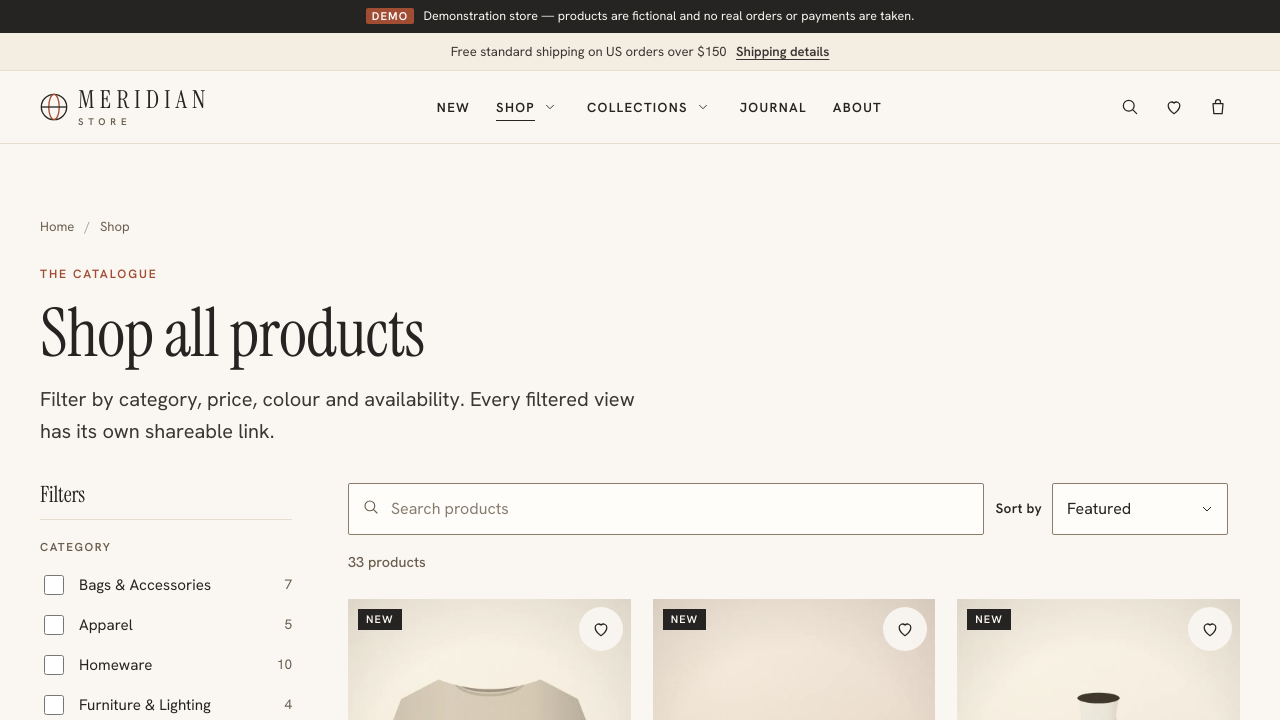
Test case: shop filters › searches and shows a helpful empty state
Step 1. Type "zzzz" into the search field labelled "Search products" → (666, 509), box [348,483,984,535]
(page scrolled)
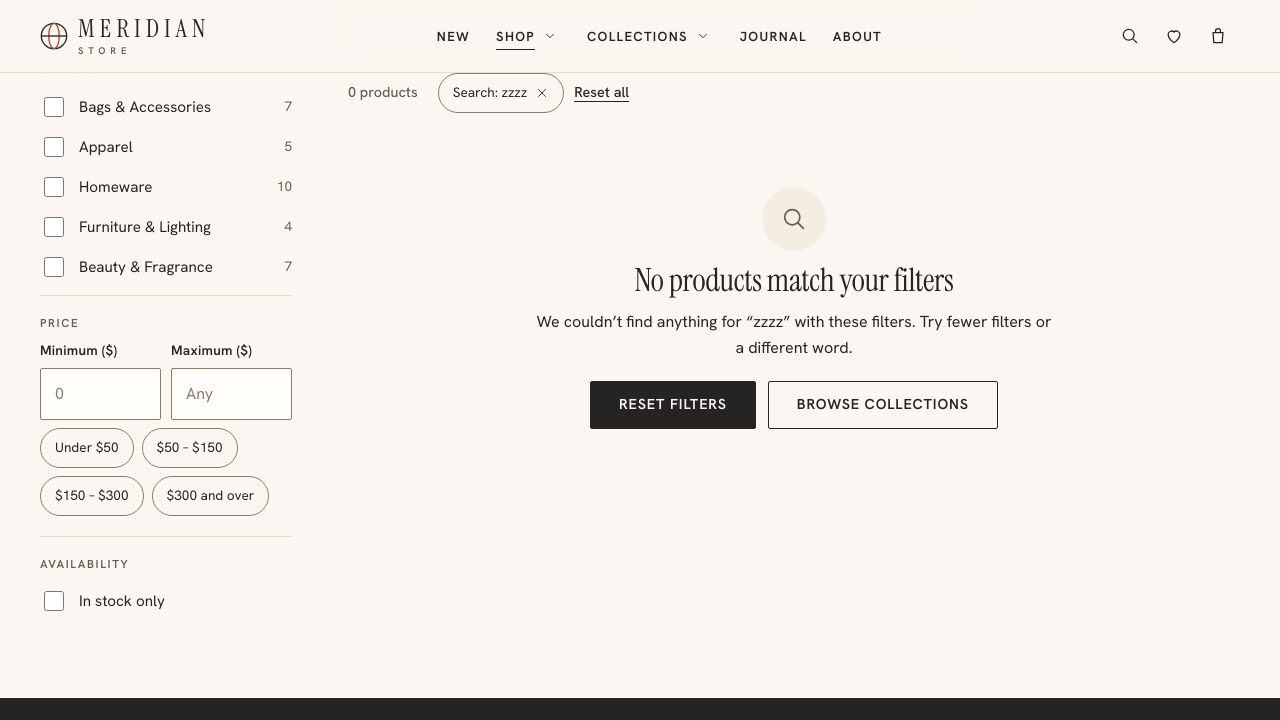
Check: the text "0 products" is shown, box [348,81,418,104]
Check: the heading "No products match your filters" is shown, box [634,263,954,297]
Step 2. Click the button "Reset filters" → (673, 404), box [590,380,756,428]
(page scrolled)
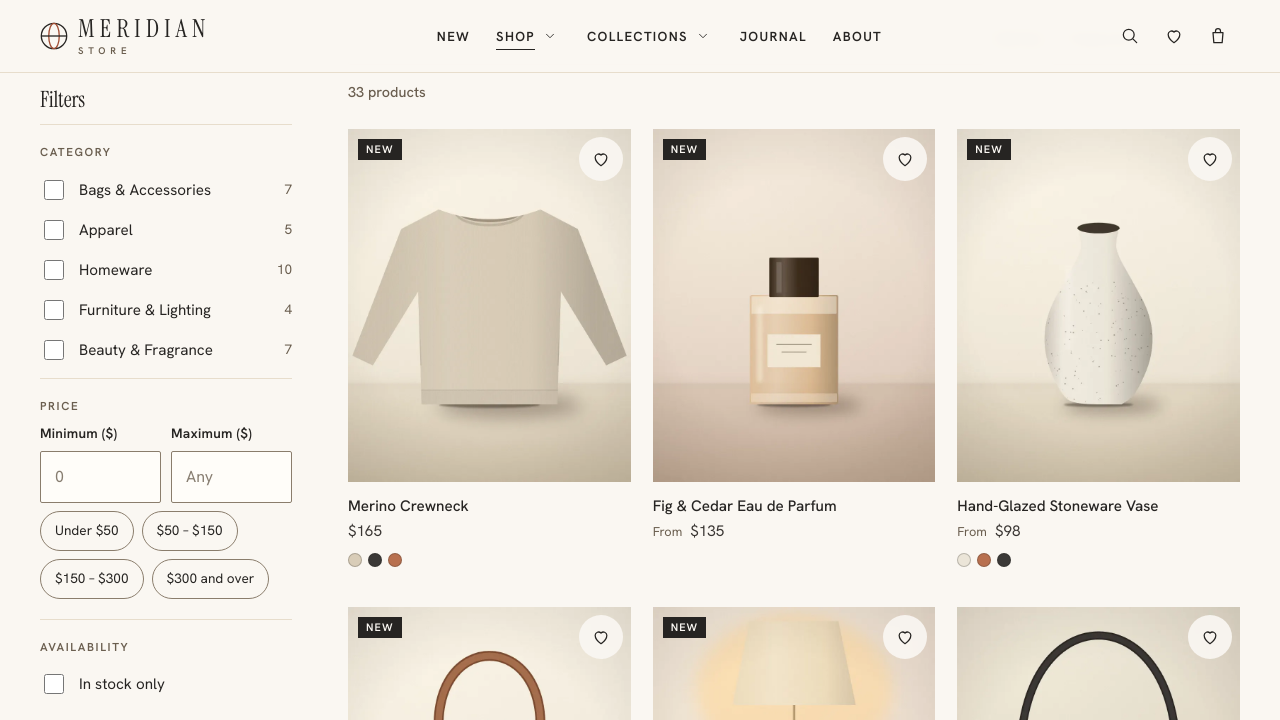
Check: the text "33 products" is shown, box [348,81,426,104]
